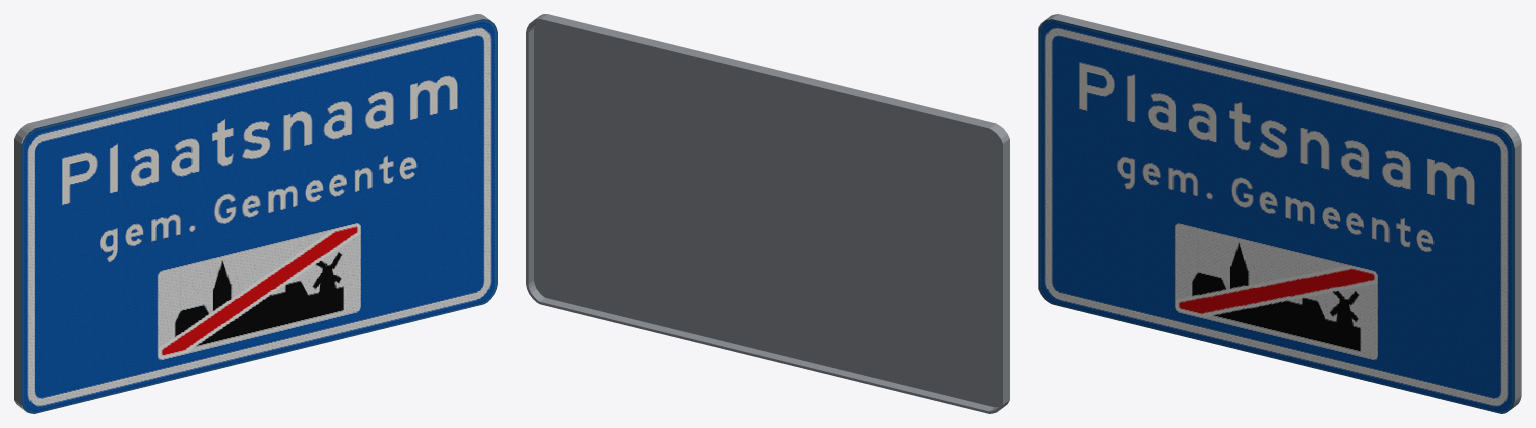
The picture shows the model from 3 angles, left to right: view 1: azimuth 30°, elevation 25°; view 2: azimuth 150°, elevation 25°; view 3: azimuth 330°, elevation 25°; orthographic projection.
Parts seen in each view (by area): view 1: cat_bce1fa9d03735ec2; view 2: cat_bce1fa9d03735ec2; view 3: cat_bce1fa9d03735ec2.
Boxes of the visible parts, x1,y1,x2,y2 form: cat_bce1fa9d03735ec2: (14,14,497,413); cat_bce1fa9d03735ec2: (526,14,1009,413); cat_bce1fa9d03735ec2: (1038,14,1521,413).
Bounding box in the file's own units: 0.6 × 0.015 × 0.3432.
2 materials, 1 textured.
